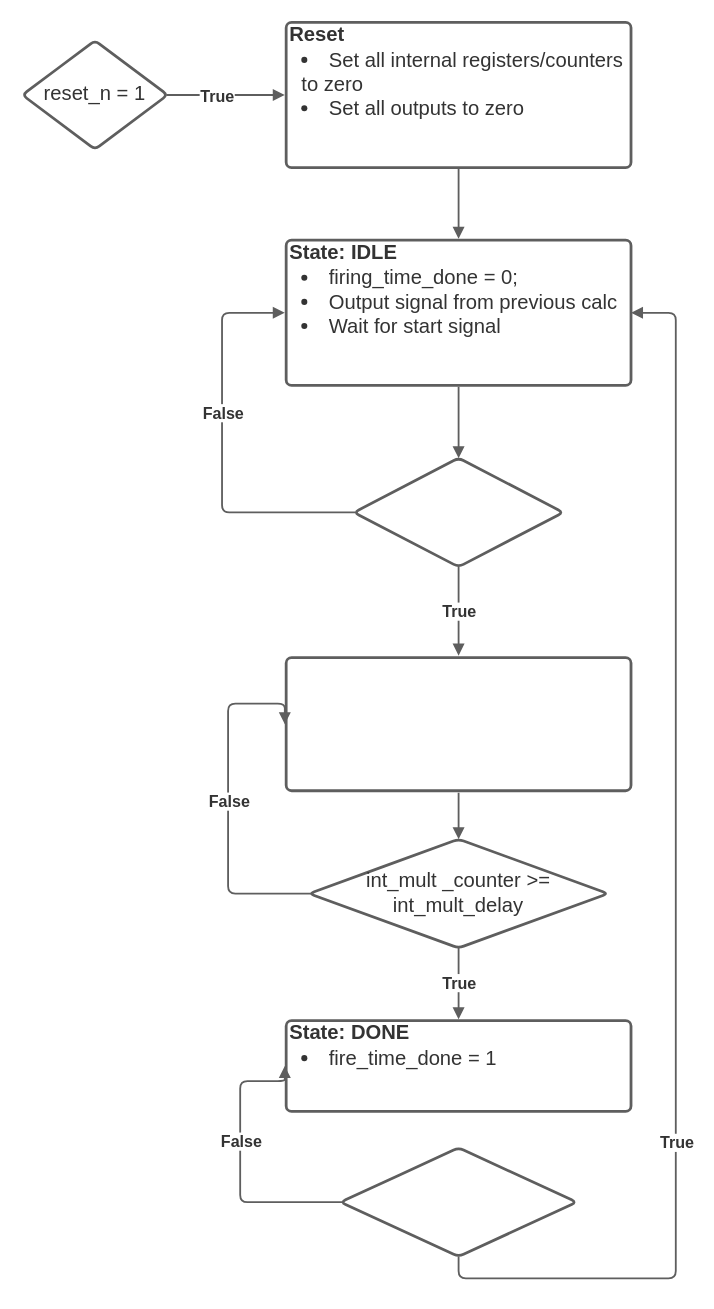
This 714x1309 diagram has some shape labels left out. The shapes that lost their labels are listed below. From the top down, each one's centre as x and y in pixels, then its label:
At point 458,512: "fire_time_start = 1".
At point 458,724: "State: MULTIPLY Determine Sector Based on what sector -> calc and output fire".
At point 458,1201: "done _count >= done_delay".
